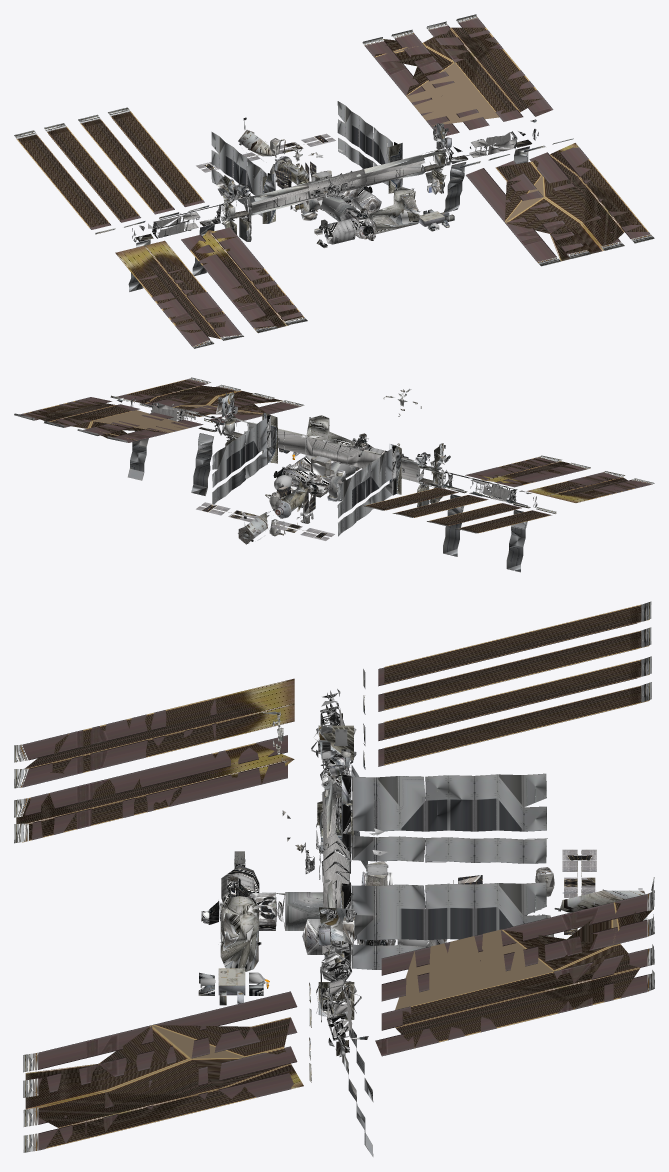
The model's file is intl_iss.glb.
3 views of the same model, one above another, from view 1: azimuth 30°, elevation 25°; view 2: azimuth 150°, elevation 25°; view 3: azimuth 270°, elevation 25° (orthographic). The views are drawn at different scales.
Parts seen in each view (by area): view 1: object 1, 23 S4 Truss_02, 32 S6 Truss_02, object 4; view 2: object 1, object 4, 32 S6 Truss_02, 23 S4 Truss_02; view 3: object 1, 23 S4 Truss_02, 32 S6 Truss_02, object 4.
Part boxes in pixels (x1,y1,x2,y2): object 1: (14, 14, 654, 348); 23 S4 Truss_02: (80, 111, 203, 212); 32 S6 Truss_02: (16, 126, 139, 227); object 4: (222, 123, 450, 247); object 1: (14, 377, 654, 572); object 4: (218, 393, 450, 507); 32 S6 Truss_02: (427, 503, 550, 533); 23 S4 Truss_02: (363, 487, 486, 517); object 1: (14, 601, 654, 1156); 23 S4 Truss_02: (384, 659, 649, 765); 32 S6 Truss_02: (384, 604, 649, 710); object 4: (200, 724, 429, 1019).
Bounding box in the file's own units: 112 × 30.32 × 76.01.
41 materials, 24 textured.
